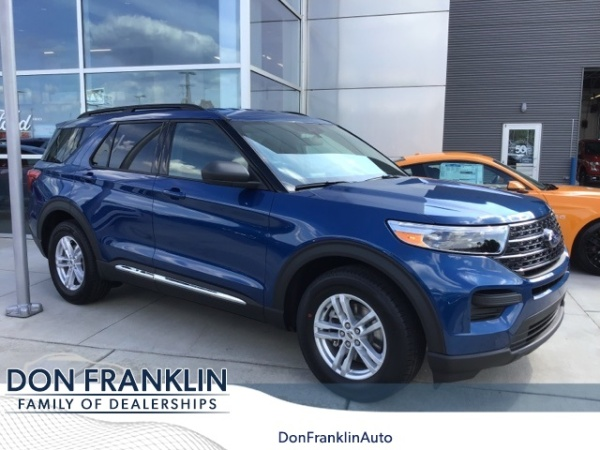Ford Explorer: (26, 101, 572, 402)
